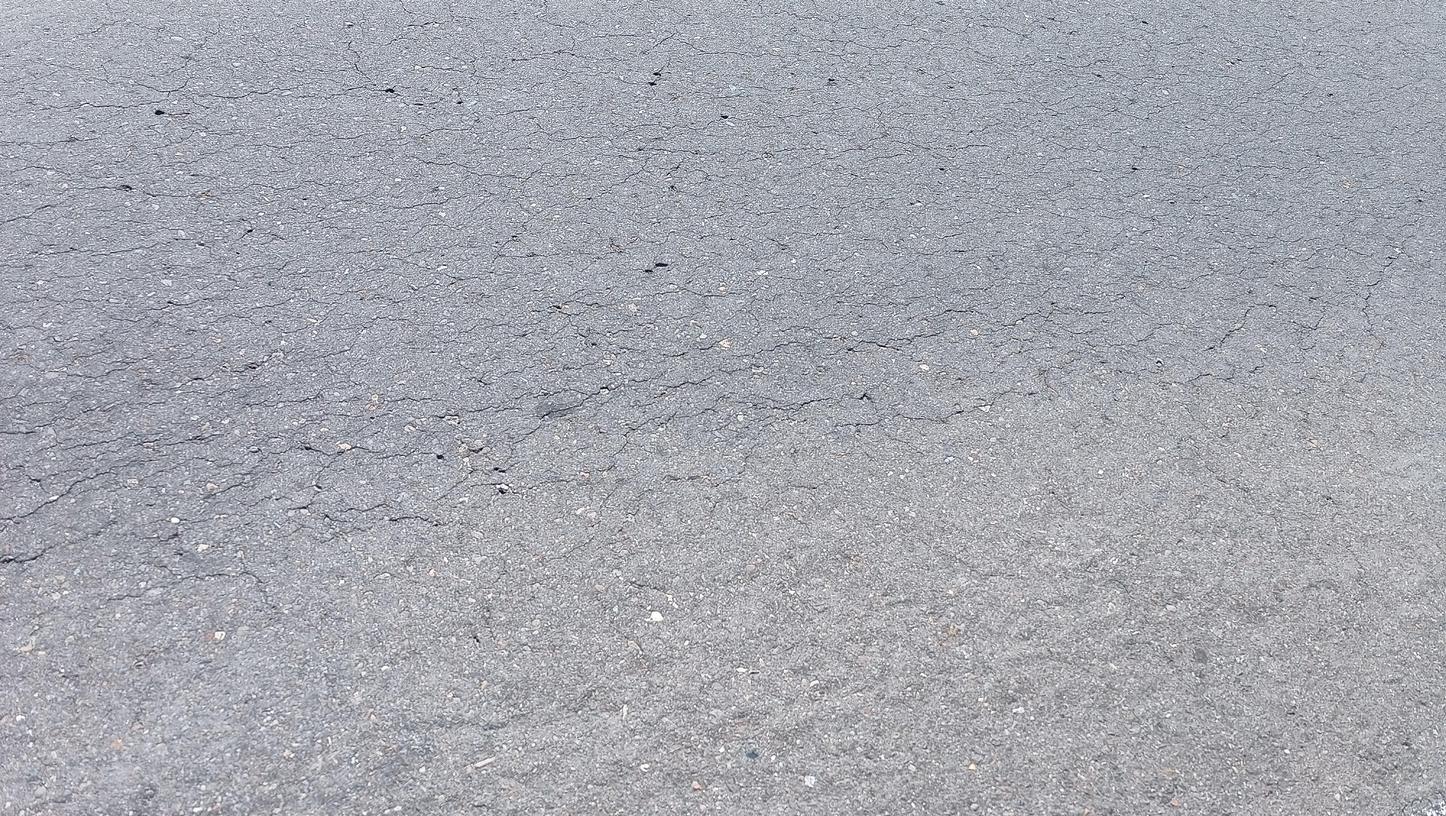PIEL DE COCODRILO: (0, 0, 1440, 616)
